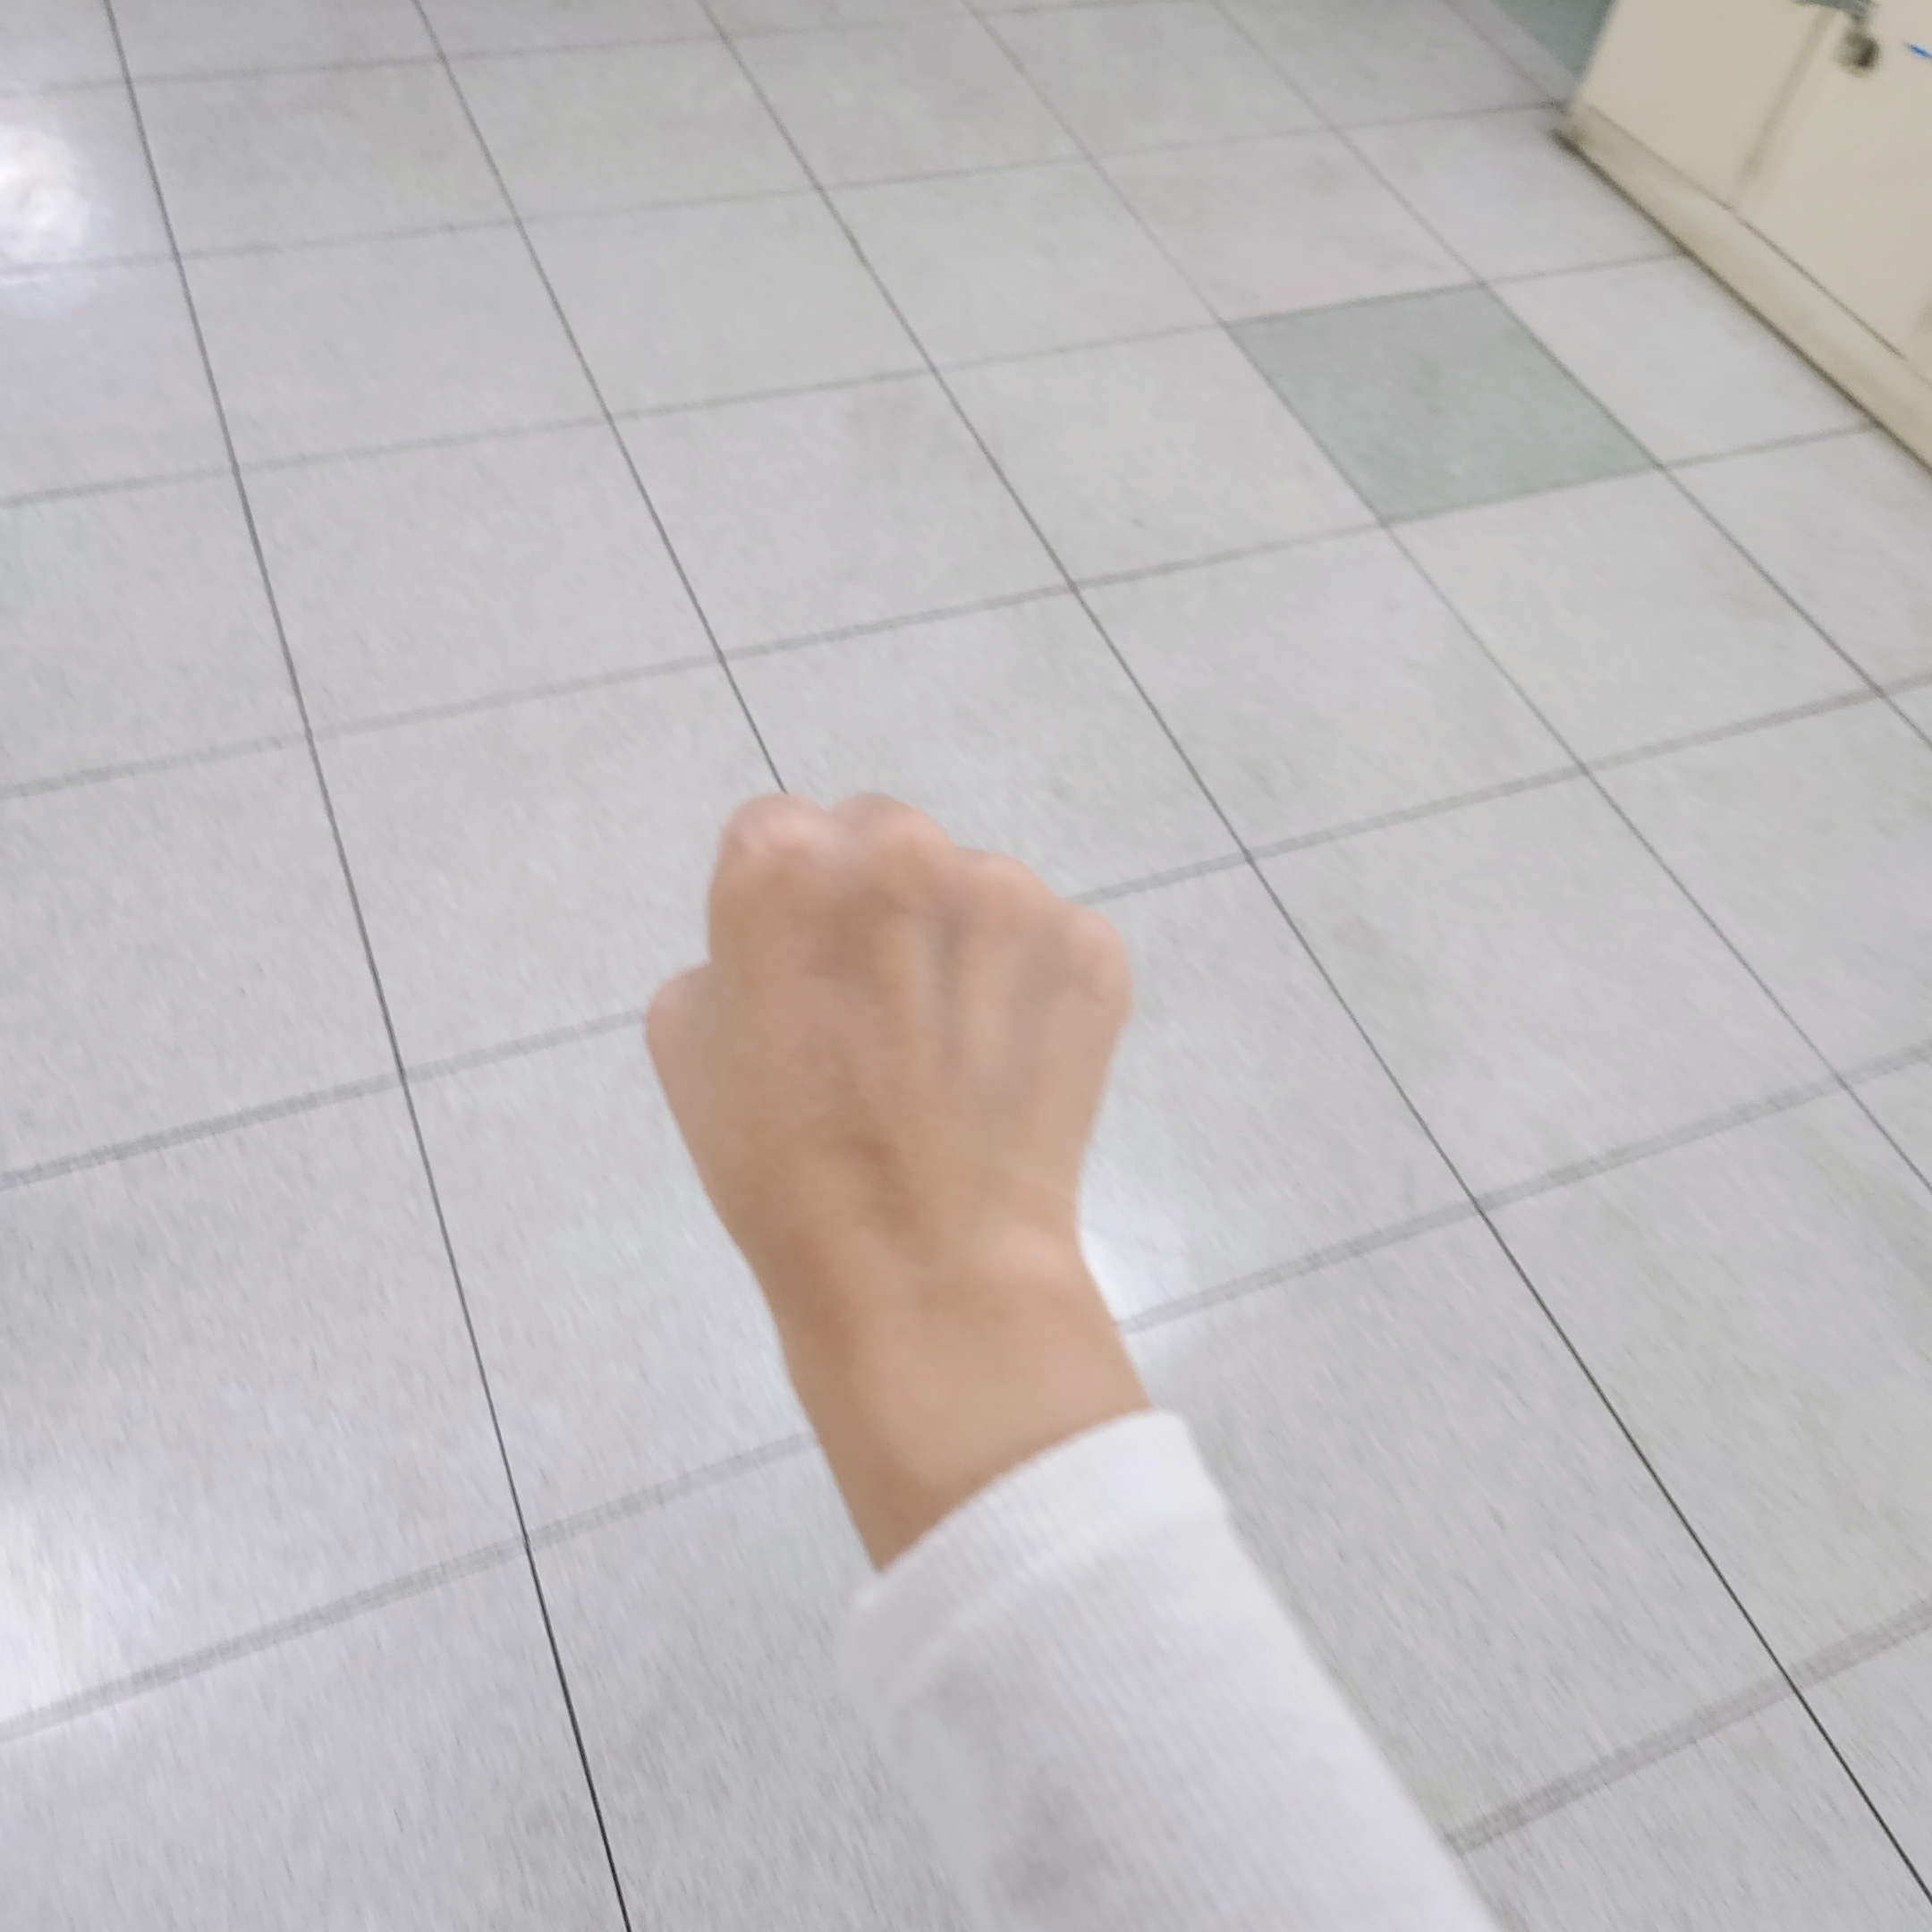smile: (631, 777, 1144, 1347)
